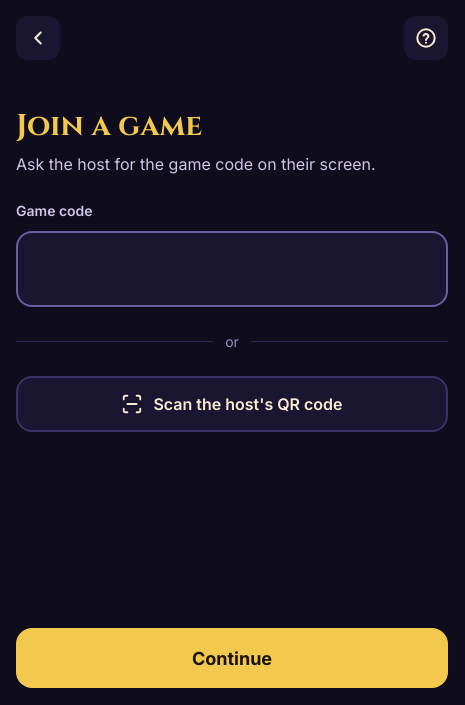
Test: CodeStep › shows an error on blur for a short code and links it with aria-describedby
The image size is (465, 705).
Type "k7" into the field labelled "Game code" at (232,269), box left=16, top=231, right=448, bottom=307
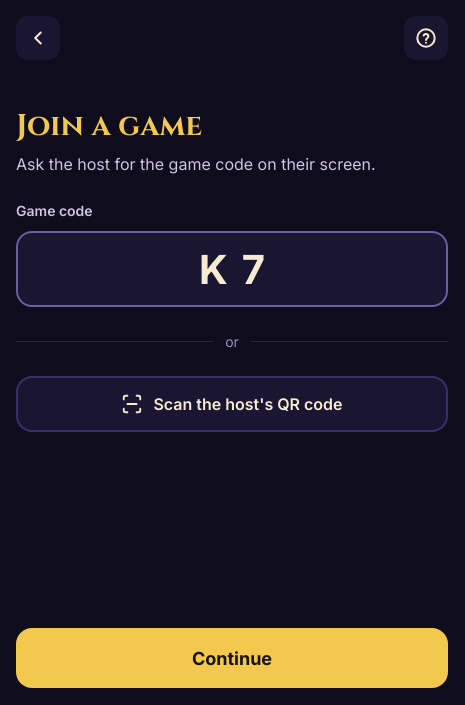
Leave the field labelled "Game code", box left=16, top=231, right=448, bottom=307
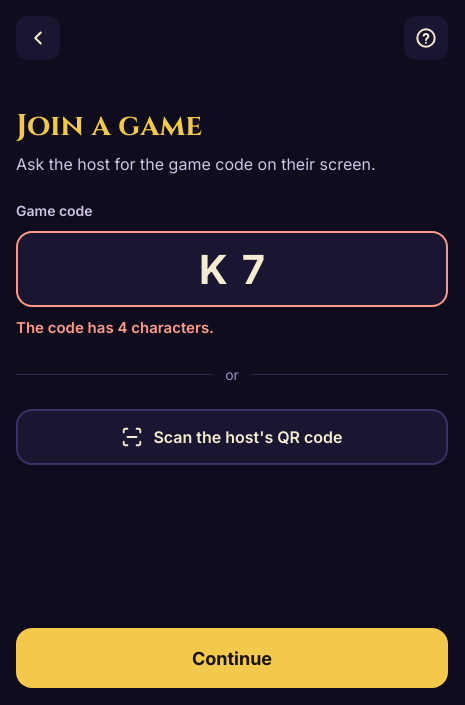
Check: the message shows "4 characters", box left=16, top=318, right=214, bottom=337
